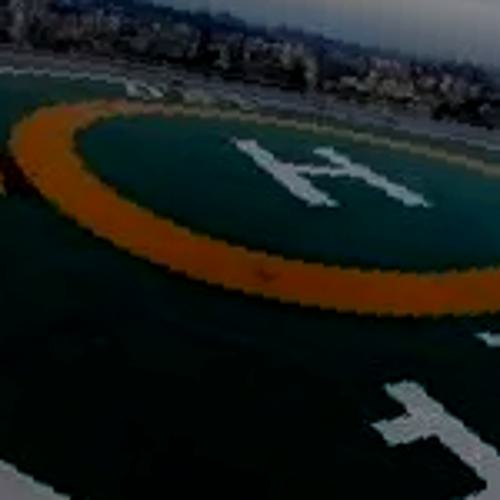Apron: (9, 91, 499, 328)
